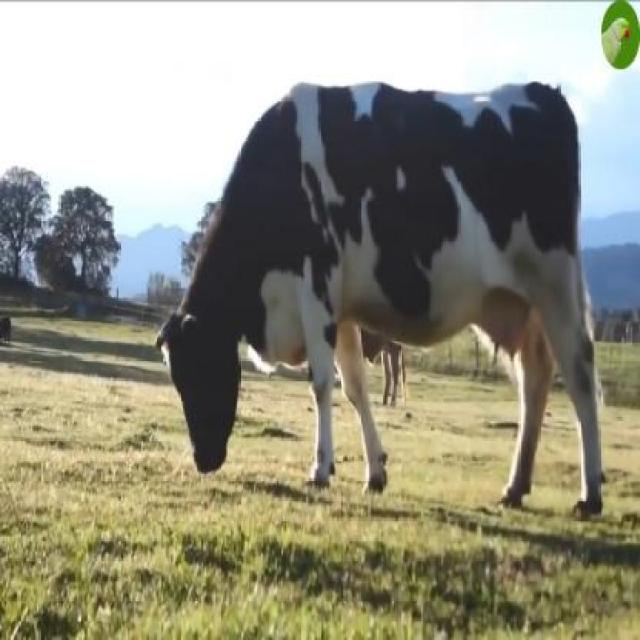Cow: (157, 74, 605, 552)
